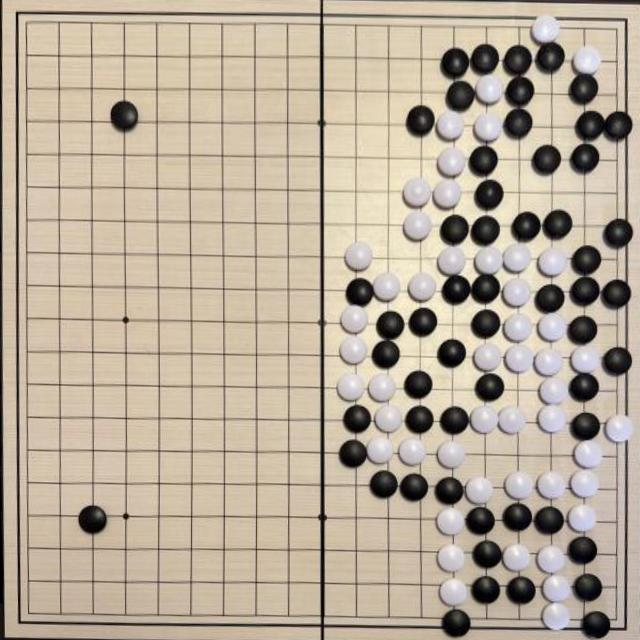blackstone: (474, 179, 504, 210), (569, 74, 599, 105), (542, 209, 572, 240), (465, 506, 496, 536), (603, 218, 633, 248), (406, 106, 436, 136), (604, 110, 634, 140), (532, 144, 562, 174), (570, 144, 600, 174), (469, 146, 499, 176), (446, 81, 476, 111), (576, 110, 606, 140), (503, 45, 533, 75), (504, 108, 534, 138), (571, 245, 601, 275), (440, 214, 470, 244), (511, 211, 541, 241), (471, 215, 501, 245), (570, 276, 600, 306), (471, 309, 501, 339), (442, 276, 472, 306), (471, 274, 501, 304), (441, 47, 470, 78), (471, 43, 500, 74), (505, 76, 534, 107), (536, 42, 565, 72), (408, 308, 438, 337), (404, 370, 433, 400), (371, 340, 401, 369), (342, 405, 372, 434), (475, 373, 505, 402), (440, 406, 470, 435), (568, 536, 598, 565), (507, 576, 537, 605), (568, 316, 598, 345), (534, 506, 564, 535), (535, 284, 565, 313), (502, 503, 532, 532), (78, 505, 107, 534), (376, 311, 405, 340), (438, 339, 467, 368), (405, 405, 434, 434), (603, 347, 633, 375), (601, 280, 631, 308), (569, 373, 599, 401), (472, 540, 502, 568), (339, 440, 368, 468), (400, 473, 429, 501), (346, 278, 375, 306), (571, 412, 600, 440), (472, 576, 501, 604), (435, 477, 464, 505), (582, 610, 610, 638), (443, 609, 471, 637), (574, 573, 602, 601), (111, 101, 138, 130), (369, 471, 398, 498)
whitestone: (473, 112, 503, 144), (537, 247, 568, 277), (402, 177, 432, 207), (437, 147, 467, 177), (502, 278, 532, 308), (572, 45, 602, 75), (574, 440, 604, 470), (437, 544, 467, 574), (408, 272, 437, 302), (433, 178, 462, 208), (403, 211, 432, 241), (475, 74, 504, 104), (502, 244, 532, 273), (437, 246, 466, 276), (504, 472, 534, 501), (537, 313, 567, 342), (465, 476, 494, 506), (536, 471, 566, 500), (604, 414, 634, 443), (570, 345, 600, 374), (538, 405, 568, 434), (567, 504, 597, 533), (534, 348, 564, 377), (340, 306, 369, 335), (368, 373, 397, 402), (474, 247, 503, 276), (438, 441, 467, 470), (570, 470, 599, 499), (436, 111, 464, 141), (504, 314, 534, 342), (532, 14, 560, 44), (366, 436, 394, 466), (504, 344, 534, 372), (539, 377, 569, 405), (536, 546, 566, 574), (439, 578, 469, 606), (502, 544, 532, 572), (542, 602, 572, 630), (344, 242, 373, 270), (373, 272, 401, 301), (337, 373, 366, 401), (340, 336, 368, 365), (473, 344, 502, 372), (399, 437, 427, 466), (436, 508, 465, 536), (542, 574, 571, 602), (374, 404, 402, 432), (498, 407, 526, 435), (470, 406, 498, 434)
